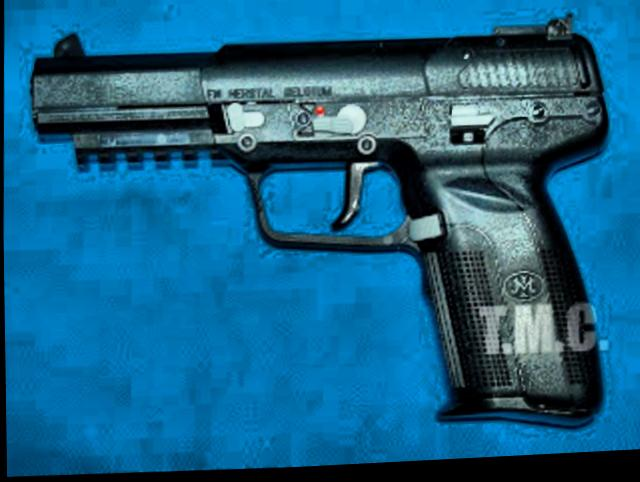pistol: (5, 0, 615, 469)
